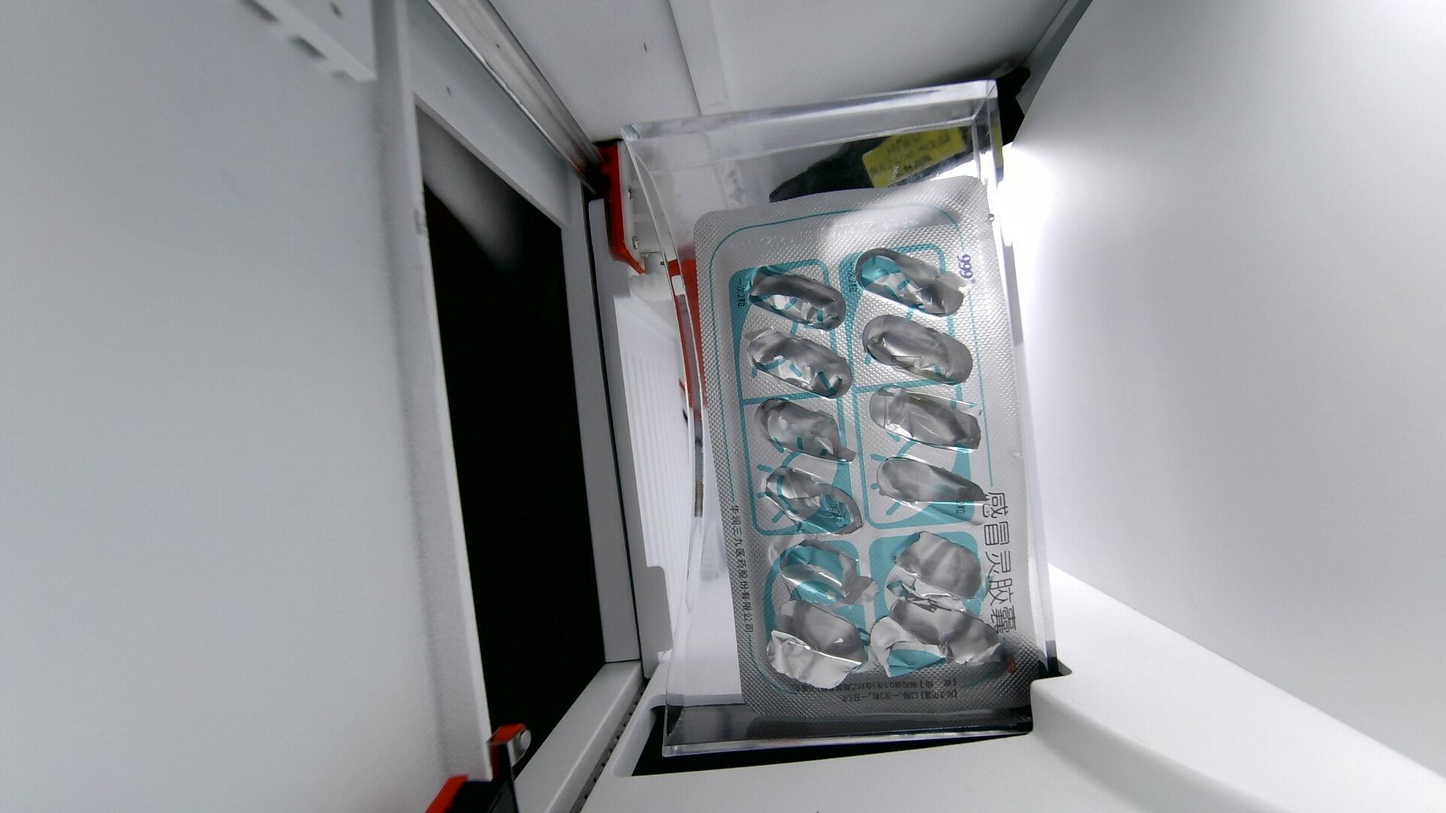No Pill Back: (862, 315, 972, 384), (856, 248, 967, 315), (888, 596, 999, 663), (745, 330, 853, 396), (767, 540, 871, 606), (758, 467, 861, 531), (871, 391, 981, 449), (755, 398, 856, 461), (749, 266, 846, 330), (895, 532, 982, 600), (776, 599, 868, 662), (877, 456, 987, 506)
